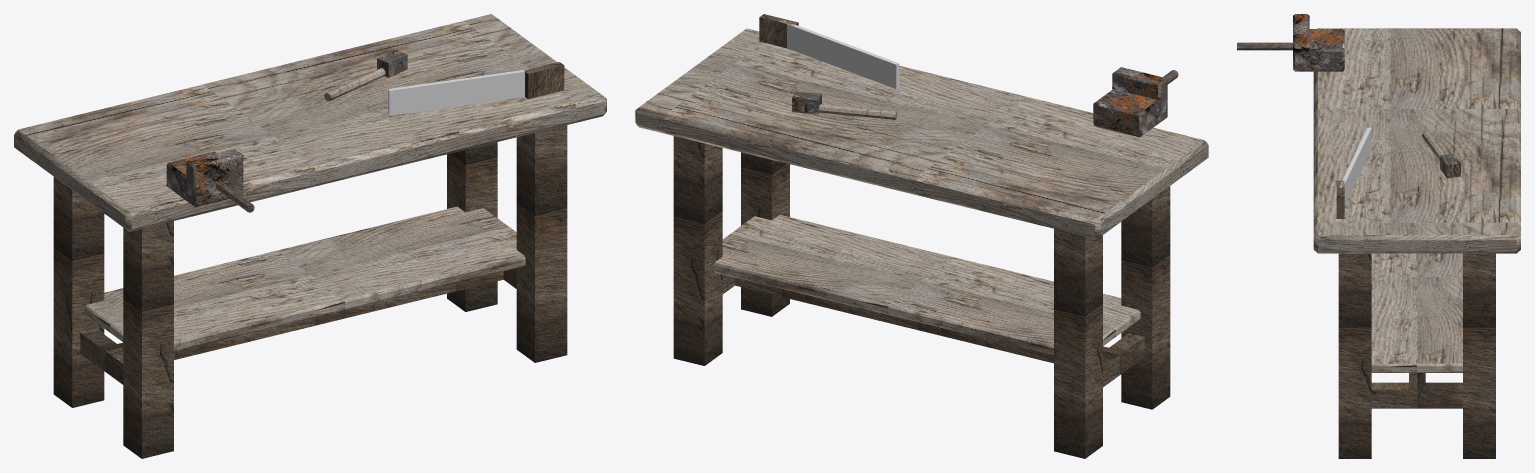
File: workbench-v02.glb
3 views of the same model, side by side, from view 1: azimuth 30°, elevation 25°; view 2: azimuth 150°, elevation 25°; view 3: azimuth 270°, elevation 25° (orthographic). The views are drawn at different scales.
Visible parts, largest first — view 1: workbench; view 2: workbench; view 3: workbench.
Part boxes in pixels (x1,y1,x2,y2): workbench: (14,14,606,458); workbench: (635,14,1208,458); workbench: (1237,14,1520,458).
Size of the model in its own units: 2.4 by 1.45 by 1.37.
4 materials, 3 textured.
